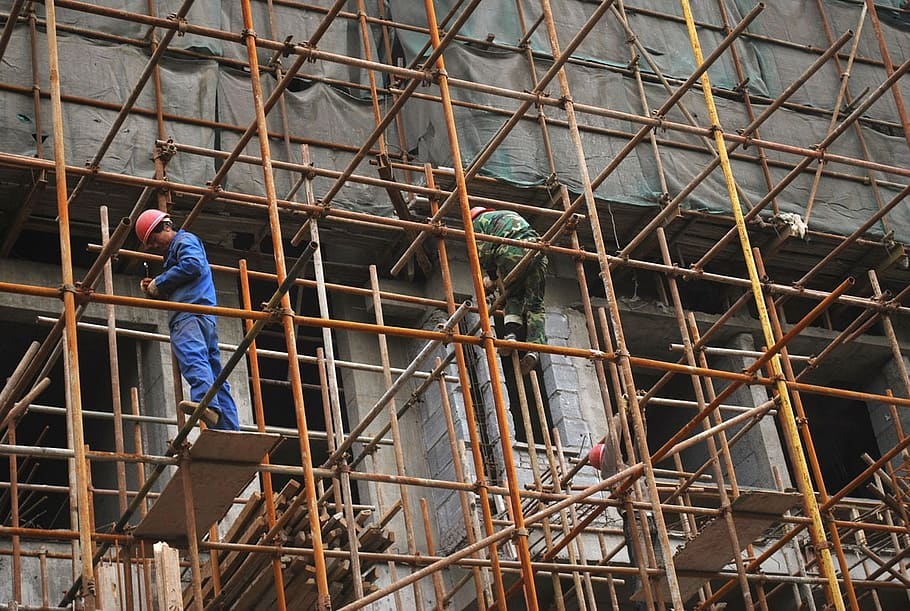Hard Hat: (138, 208, 176, 255), (471, 205, 495, 222)
Person: (131, 206, 245, 429), (465, 202, 548, 367)
